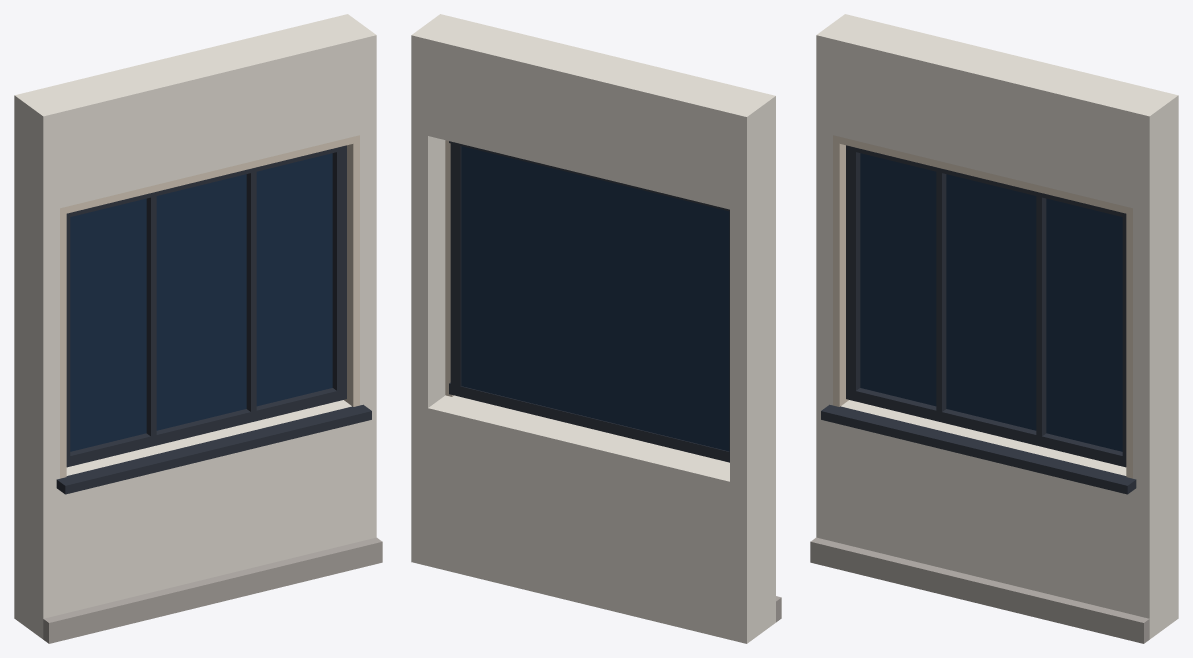
File: window_modern.glb
3 renders of one model, left to right at view 1: azimuth 30°, elevation 25°; view 2: azimuth 150°, elevation 25°; view 3: azimuth 330°, elevation 25°, orthographic.
Parts seen in each view (by area): view 1: window_modern; view 2: window_modern; view 3: window_modern.
Part boxes in pixels (x1,y1,x2,y2): window_modern: [14, 14, 382, 643]; window_modern: [411, 14, 781, 643]; window_modern: [810, 14, 1178, 643].
Size of the model in its own units: 2 by 3 by 0.39.
3 materials, 3 textured.
